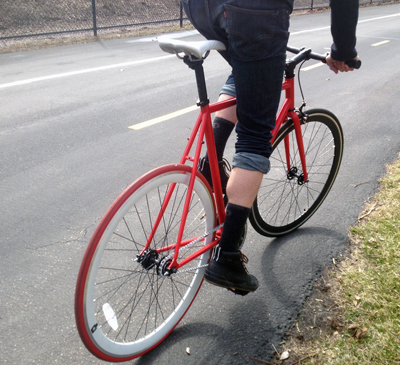bikerider: (73, 1, 374, 359)
